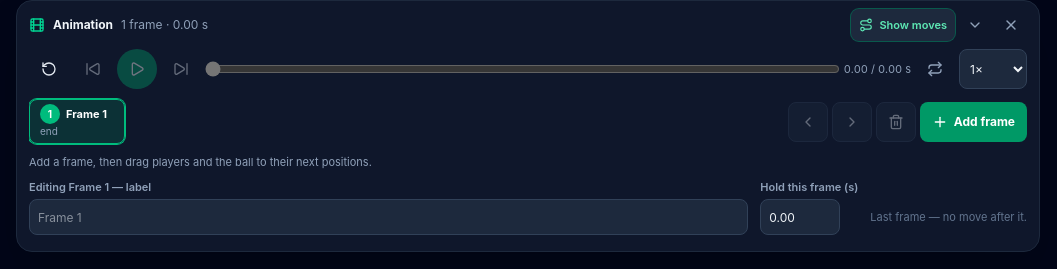
it: FrameTimeline › plays in read-only preview and returns to editing on frame select
expect the button named "Add a frame to animate" is disabled: met, box [117, 49, 157, 89]
What coordinates should you click on to do the following:
click the button "Add frame"
I would click on:
 (973, 122)
Its box is [920, 102, 1027, 142].
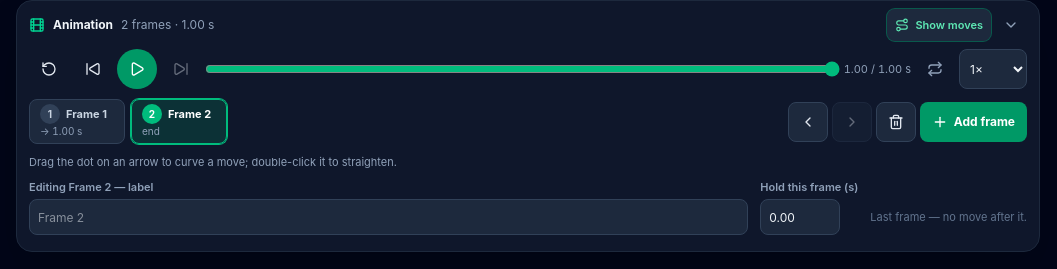
What coordinates should you click on to do the following:
click the button "1 Frame 1 → 1.00 s"
I would click on:
 (77, 122)
Its box is [29, 99, 125, 144].
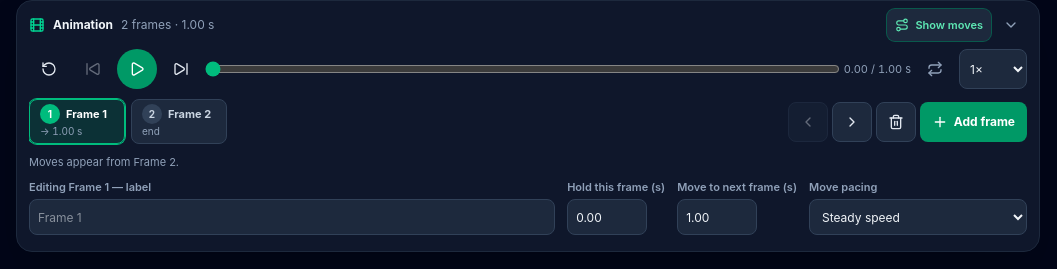
What coordinates should you click on to do the following:
click the button named "Play (Space)"
I would click on:
 (137, 69)
Its box is [117, 49, 157, 89].
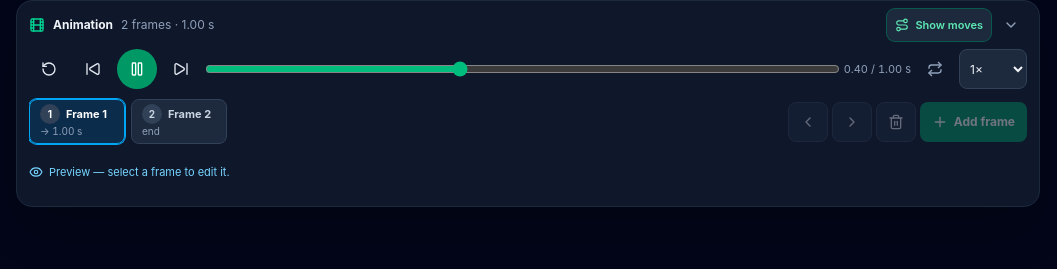
expect the text "Preview — select a frame to edit it." is shown: met, box [29, 165, 230, 179]
expect the button "Add frame" is disabled: met, box [920, 102, 1027, 142]
expect the slider named "playback position" holds "400": met, box [205, 49, 840, 89]
What coordinates should you click on to do the following:
click the button "2 Frame 2 end"
I would click on:
 (179, 122)
Its box is [131, 99, 227, 144].
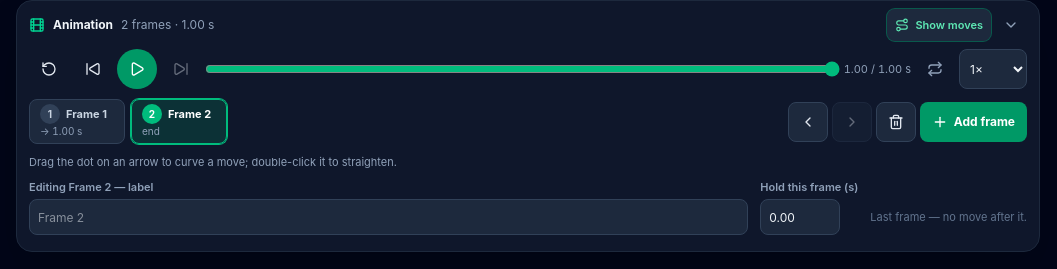
expect the slider named "playback position" holds "1000": met, box [205, 49, 840, 89]
